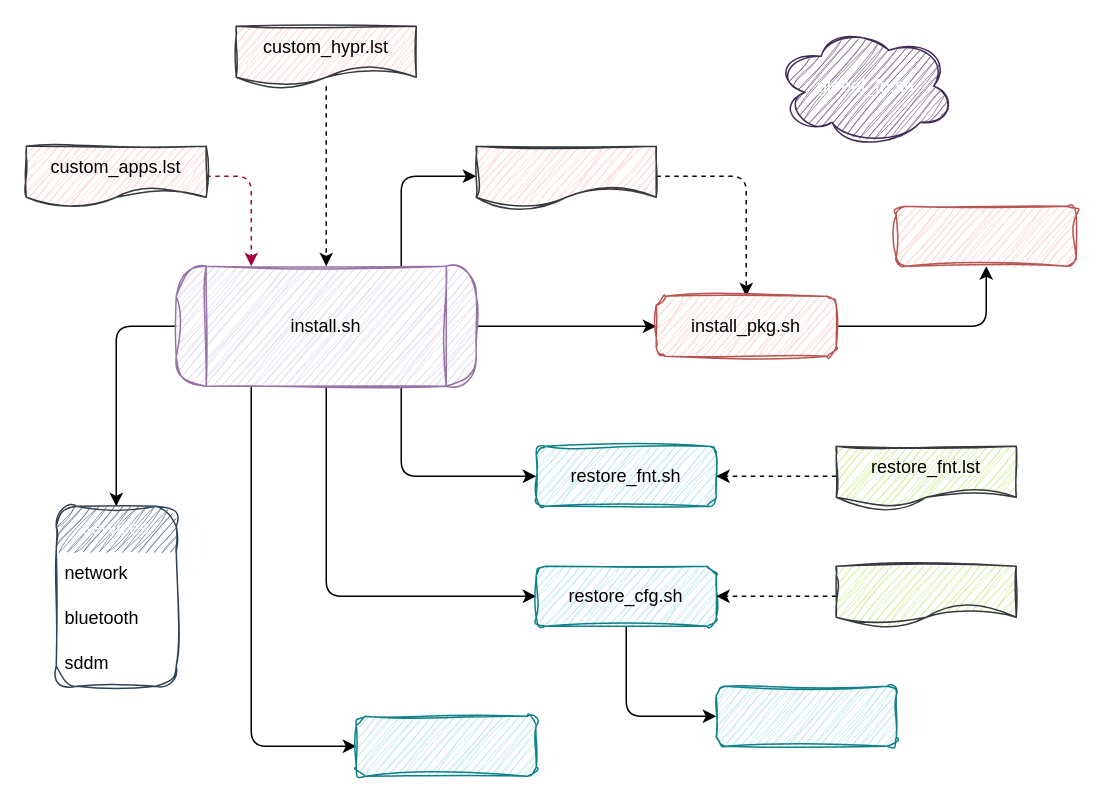
The diagram is 1103 pixels wide and 803 high, and some of its shapes have lost their labels. The centre of each missing label's shape, as x and y in pixels:
install_pkg.lst: the point at 565,175
install_yay.sh: the point at 985,235
restore_cfg.lst: the point at 925,595
restore_lnk.sh: the point at 805,715
restore_sgz.sh: the point at 445,745
